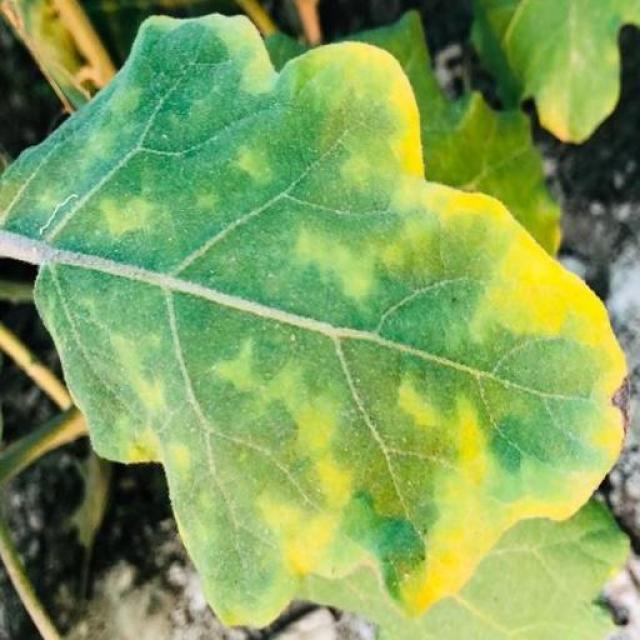leaf_spot: (207, 328, 355, 450), (239, 464, 358, 605), (303, 63, 427, 181), (489, 239, 603, 347), (296, 215, 409, 302), (409, 492, 508, 587), (192, 28, 294, 104), (110, 326, 183, 416), (435, 390, 496, 496), (85, 184, 178, 242), (531, 464, 610, 522), (382, 381, 455, 439), (113, 430, 195, 480), (0, 169, 38, 195)
